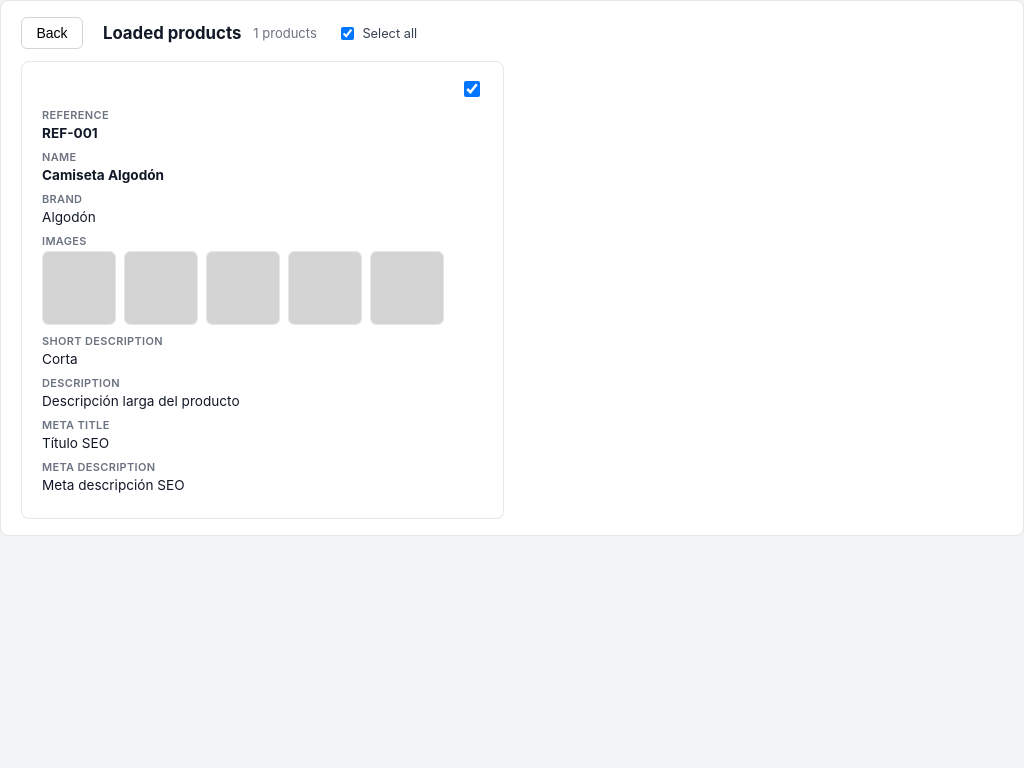
Test: ProductsViewPage › opens the product editor when a product card is clicked
What coordinates should you click on to do the following:
click the button "Camiseta Algodón"
I would click on:
 (40, 80)
Its box is 21,61 -> 504,519.
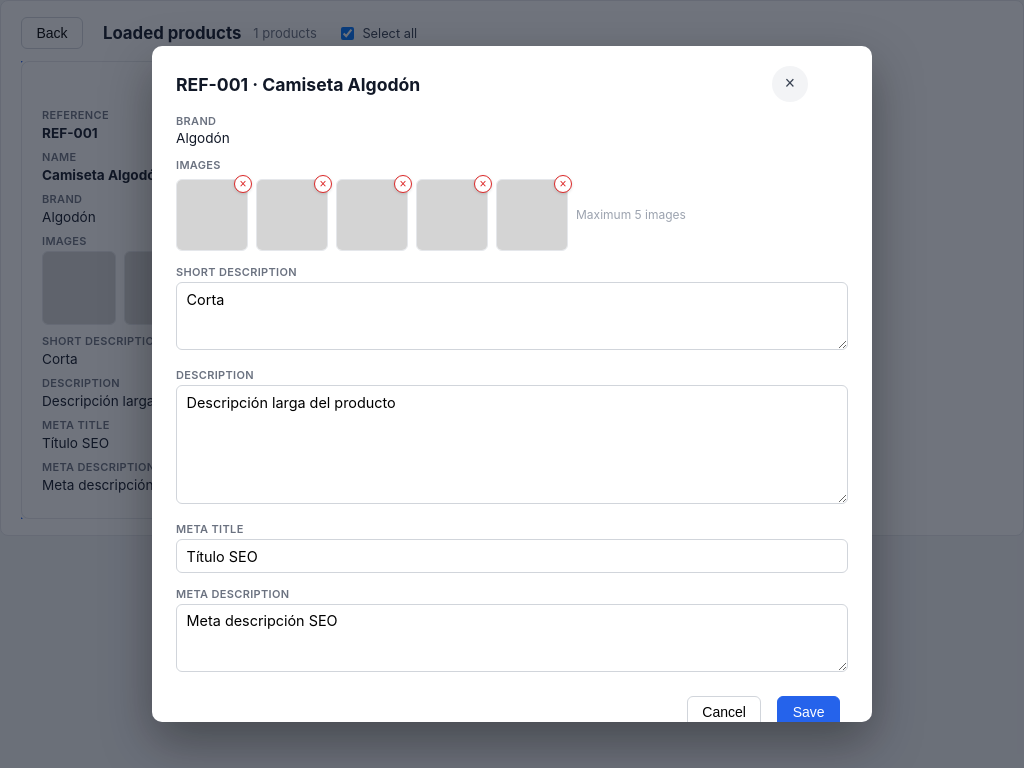
Check: the dialog is shown
Check: the text box labelled "Short description" is shown, box 176,282 -> 848,350
Check: the text box labelled "Description" is shown, box 176,385 -> 848,504
